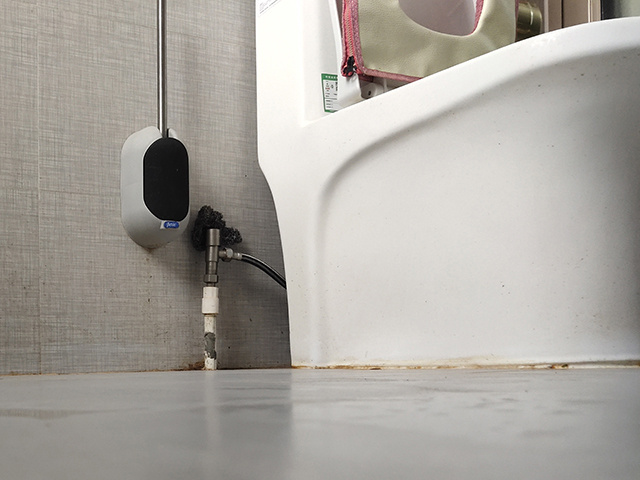closestool: (254, 1, 640, 372)
